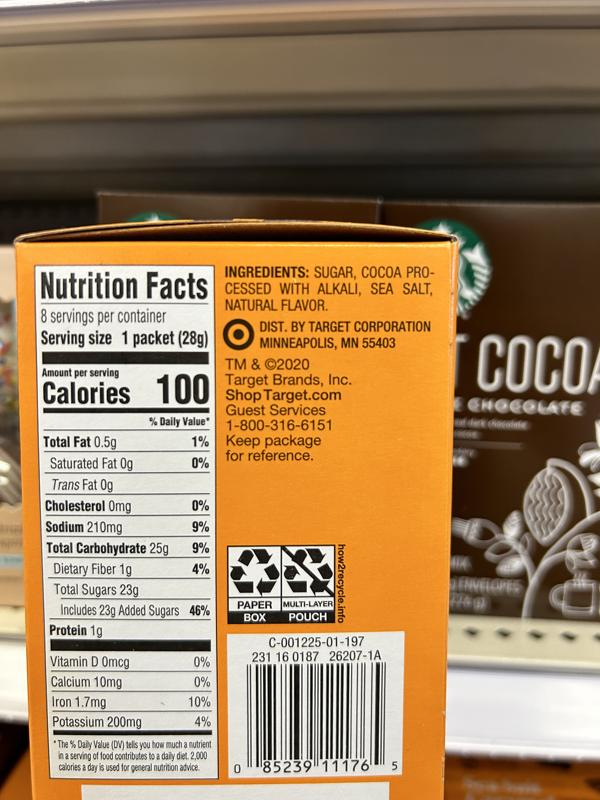ingredients: (222, 263, 435, 315)
